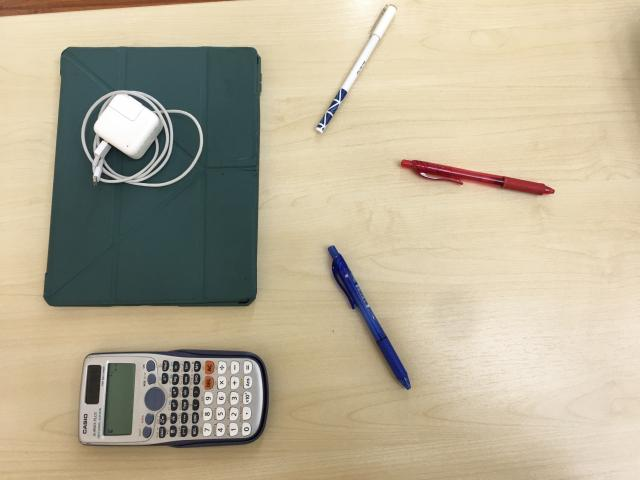Pen: (329, 247, 414, 390), (314, 5, 398, 136), (399, 160, 556, 196)
wire: (83, 91, 191, 186)
